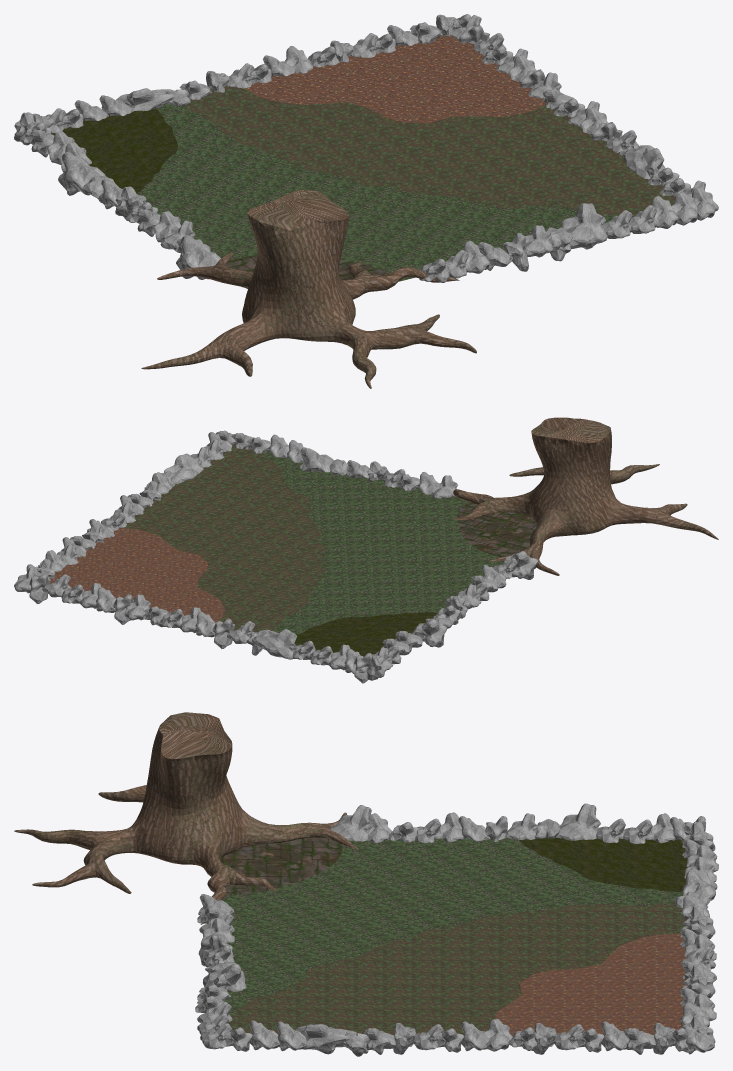
File: map.fbx
The picture shows the model from 3 angles, top to bottom: view 1: azimuth 30°, elevation 25°; view 2: azimuth 150°, elevation 25°; view 3: azimuth 270°, elevation 25°; orthographic projection. The views are drawn at different scales.
Parts seen in each view (by area): view 1: zone2, zone3, Tree, zone1, zone5, Cube.066, Cube.055, Cube.052, Cube.032, Cube.010, zone4, Cube.064 (+5 smaller); view 2: zone3, zone2, Tree, zone1, zone5, zone4, Cube.010, Cube.032, Cube.055, Cube.066, Cube.052, Cube.007 (+2 smaller); view 3: zone3, zone2, Tree, zone1, zone5, zone4, Cube.055, Cube.032, Cube.052, Cube.066, Cube.010, Cube.024 (+8 smaller).
Boxes of the visible parts, x1,y1,x2,y2 form: zone2: [180, 86, 674, 215]; zone3: [137, 103, 635, 281]; Tree: [141, 190, 476, 388]; zone1: [245, 35, 546, 123]; zone5: [51, 108, 178, 193]; Cube.066: [561, 203, 607, 249]; Cube.055: [58, 152, 105, 195]; Cube.052: [176, 235, 220, 279]; Cube.032: [622, 147, 665, 179]; Cube.010: [115, 88, 174, 110]; zone4: [226, 255, 388, 279]; Cube.064: [524, 225, 553, 257]; zone3: [261, 450, 504, 634]; zone2: [119, 444, 325, 632]; Tree: [452, 417, 718, 575]; zone1: [49, 528, 225, 622]; zone5: [294, 612, 437, 656]; zone4: [457, 501, 537, 557]; Cube.010: [252, 629, 297, 659]; Cube.032: [164, 453, 203, 484]; Cube.055: [411, 619, 446, 647]; Cube.066: [299, 447, 334, 472]; Cube.052: [502, 551, 538, 579]; Cube.007: [212, 618, 235, 648]; zone3: [222, 838, 683, 1015]; zone2: [228, 902, 688, 1035]; Tree: [14, 712, 358, 924]; zone1: [494, 933, 688, 1036]; zone5: [519, 837, 687, 892]; zone4: [220, 837, 344, 894]; Cube.055: [556, 803, 600, 840]; Cube.032: [295, 1024, 356, 1054]; Cube.052: [330, 805, 372, 841]; Cube.066: [203, 963, 246, 991]; Cube.010: [682, 867, 717, 905]; Cube.024: [483, 1018, 512, 1051].
Size of the model in its own units: 17207 by 3509 by 17650.
